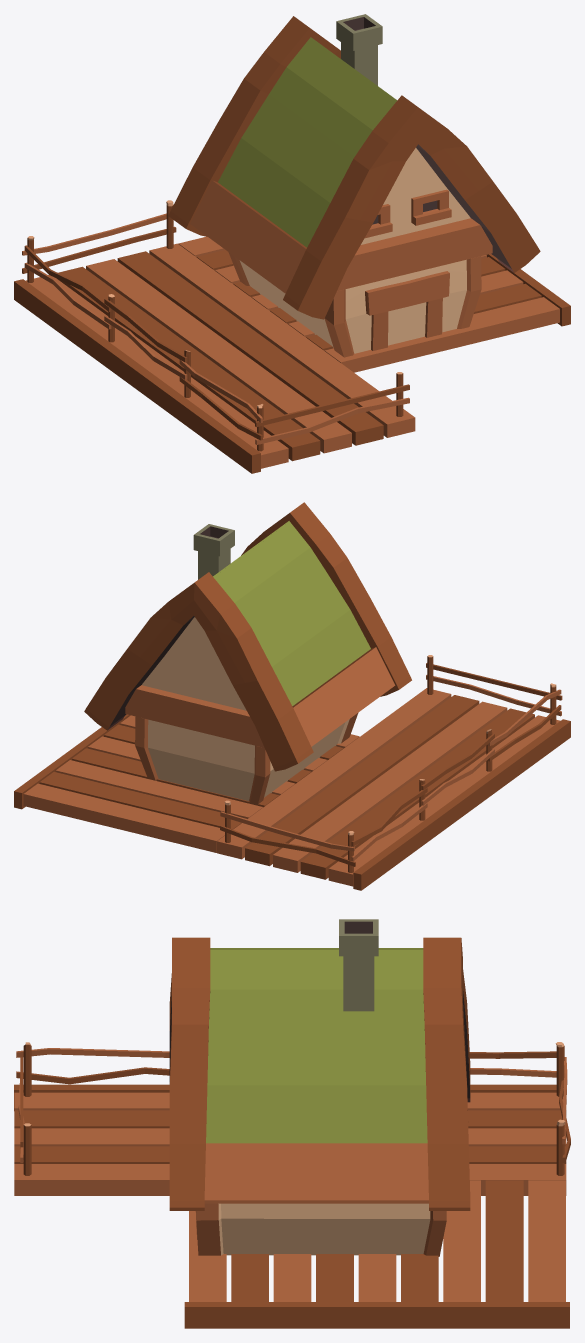
The model's file is house.fbx.
The picture shows the model from 3 angles, top to bottom: view 1: azimuth 30°, elevation 25°; view 2: azimuth 150°, elevation 25°; view 3: azimuth 270°, elevation 25°; orthographic projection. The views are drawn at different scales.
Parts seen in each view (by area): view 1: Cube.001, Cube, Cube.013, Cube.015, Cube.014, Cube.018, Cube.016, Cube.003, Cube.017, Cube.002, Cube.005, Cube.051 (+11 smaller); view 2: Cube.001, Cube, Cube.013, Cube.015, Cube.014, Cube.018, Cube.012, Cube.016, Cube.017, Cube.010, Cube.011, Cube.002 (+11 smaller); view 3: Cube.001, Cube, Cube.004, Cube.014, Cube.011, Cube.012, Cube.016, Cube.017, Cube.015, Cube.013, Cube.010, Cube.002 (+11 smaller).
Boxes of the visible parts, box(x1,y1,x2,y2) form: Cube.001: box(168, 16, 540, 319); Cube: box(228, 148, 492, 357); Cube.013: box(117, 251, 383, 445); Cube.015: box(86, 259, 351, 453); Cube.014: box(149, 243, 415, 437); Cube.018: box(14, 279, 260, 473); Cube.016: box(57, 266, 320, 461); Cube.003: box(324, 297, 559, 372); Cube.017: box(25, 275, 288, 468); Cube.002: box(336, 14, 382, 85); Cube.005: box(306, 283, 541, 350); Cube.051: box(255, 397, 409, 444); Cube.001: box(84, 502, 411, 771); Cube: box(125, 617, 358, 805); Cube.013: box(245, 695, 479, 866); Cube.015: box(273, 701, 507, 872); Cube.014: box(217, 688, 451, 859); Cube.018: box(353, 719, 570, 890); Cube.012: box(23, 783, 224, 852); Cube.016: box(300, 708, 534, 879); Cube.017: box(328, 715, 560, 886); Cube.010: box(55, 760, 263, 818); Cube.011: box(39, 772, 246, 829); Cube.002: box(193, 524, 234, 579); Cube.001: box(169, 937, 470, 1210); Cube: box(195, 1203, 446, 1256); Cube.004: box(184, 1302, 569, 1328); Cube.014: box(14, 1164, 566, 1195); Cube.011: box(485, 1180, 523, 1301); Cube.012: box(528, 1180, 565, 1301); Cube.016: box(14, 1110, 566, 1128); Cube.017: box(14, 1092, 563, 1110); Cube.015: box(14, 1128, 566, 1146); Cube.013: box(14, 1146, 566, 1163); Cube.010: box(443, 1180, 480, 1301); Cube.002: box(339, 919, 378, 1011).
Bounding box in the file's own units: 1054 × 722 × 1116.
Materials: 1 (1 with a texture image).
